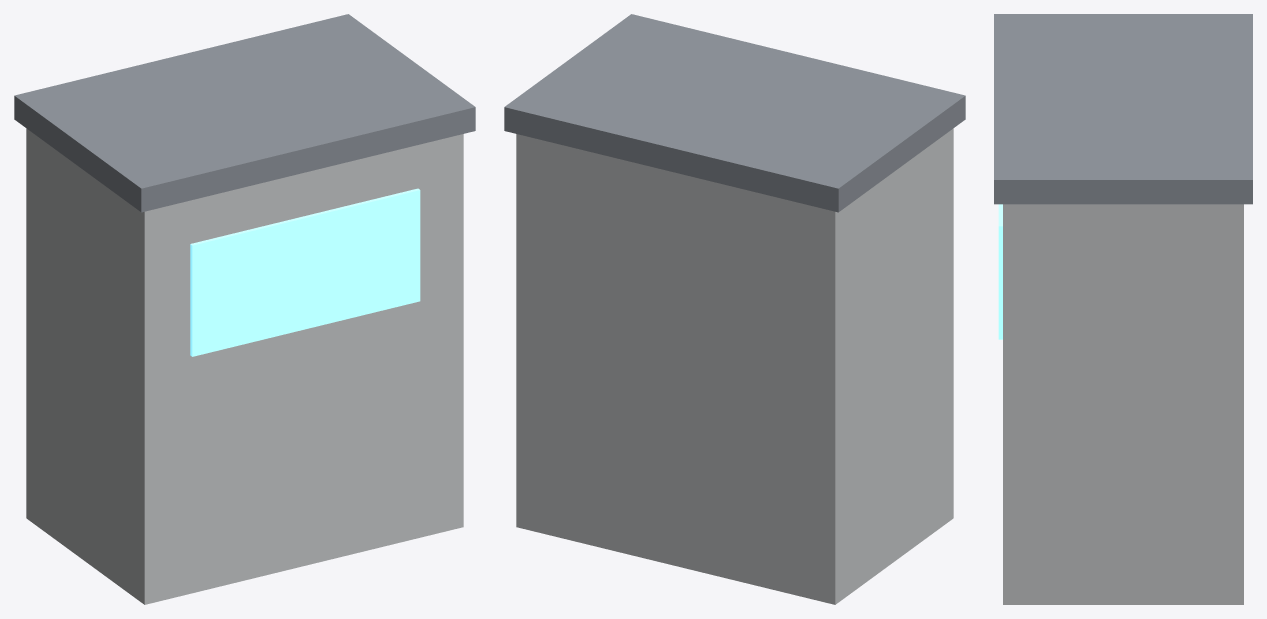
Rendered from pos-freezer-gelo.gltf.
3 renders of one model, left to right at view 1: azimuth 30°, elevation 25°; view 2: azimuth 150°, elevation 25°; view 3: azimuth 270°, elevation 25°, orthographic.
Visible parts, largest first — view 1: pos-freezer-gelo; view 2: pos-freezer-gelo; view 3: pos-freezer-gelo.
Boxes of the visible parts, x1=… form: pos-freezer-gelo: x1=14, y1=14, x2=475, y2=604; pos-freezer-gelo: x1=504, y1=14, x2=965, y2=604; pos-freezer-gelo: x1=994, y1=14, x2=1252, y2=604.
Bounding box in the file's own units: 0.88 × 1.06 × 0.58.
